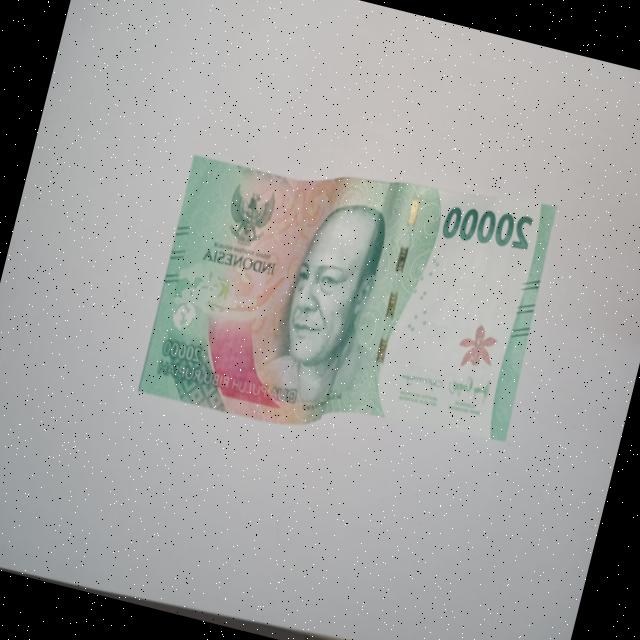20K: (130, 118, 572, 489)
